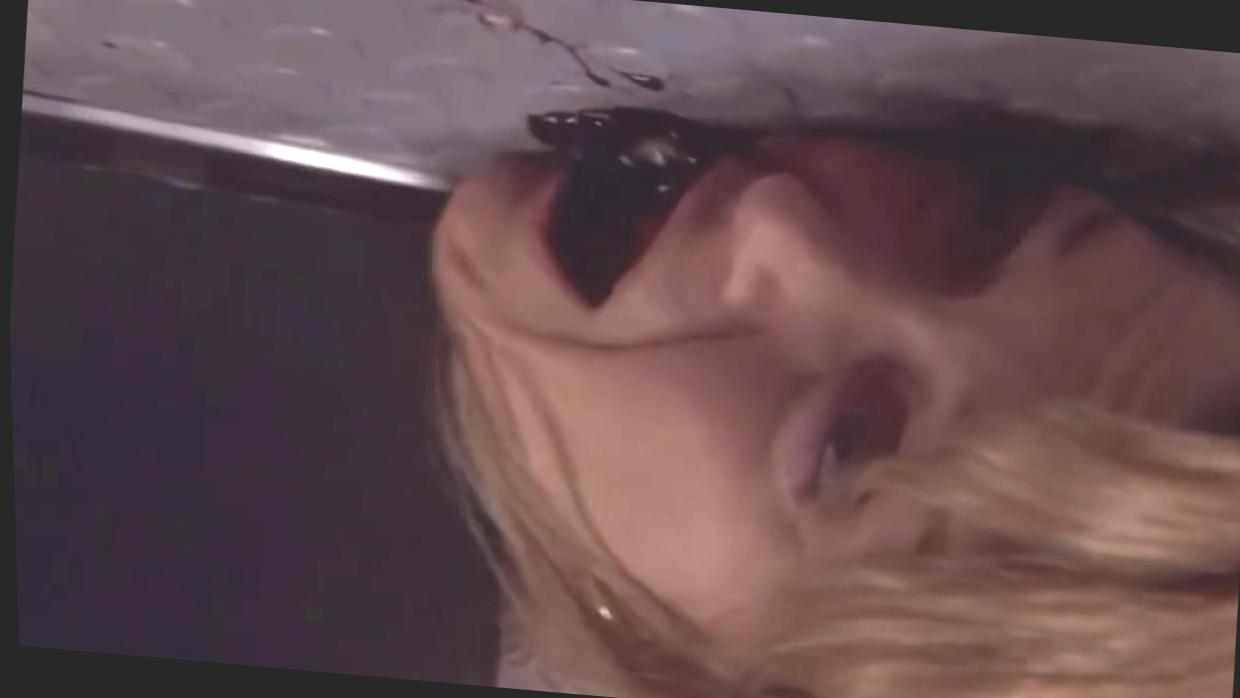Fire: (525, 108, 749, 303)
